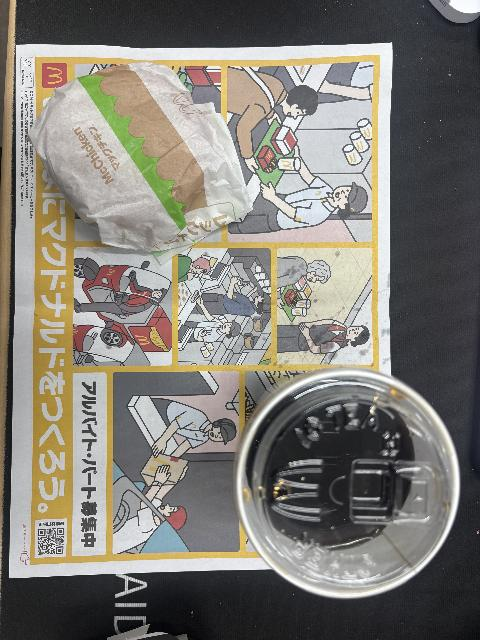burger: (27, 61, 254, 267)
drink: (234, 367, 460, 600)
